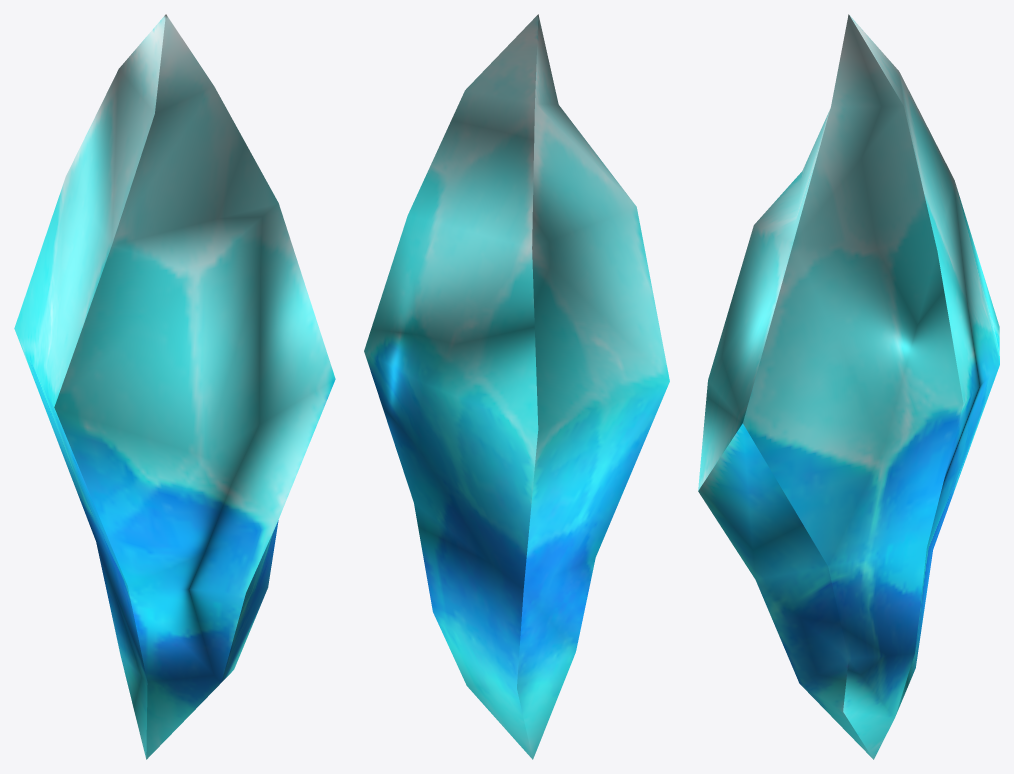
The model's file is crystal.FBX.
3 views of the same model, side by side, from view 1: azimuth 30°, elevation 25°; view 2: azimuth 150°, elevation 25°; view 3: azimuth 270°, elevation 25° (orthographic). The views are drawn at different scales.
Visible parts, largest first — view 1: default043; view 2: default043; view 3: default043.
Boxes of the visible parts, left/top/right/bottom form: default043: left=14, top=14, right=335, bottom=759; default043: left=364, top=14, right=669, bottom=759; default043: left=698, top=14, right=999, bottom=759.
Size of the model in its own units: 1.94 by 5.19 by 1.89.
1 material, 1 textured.
